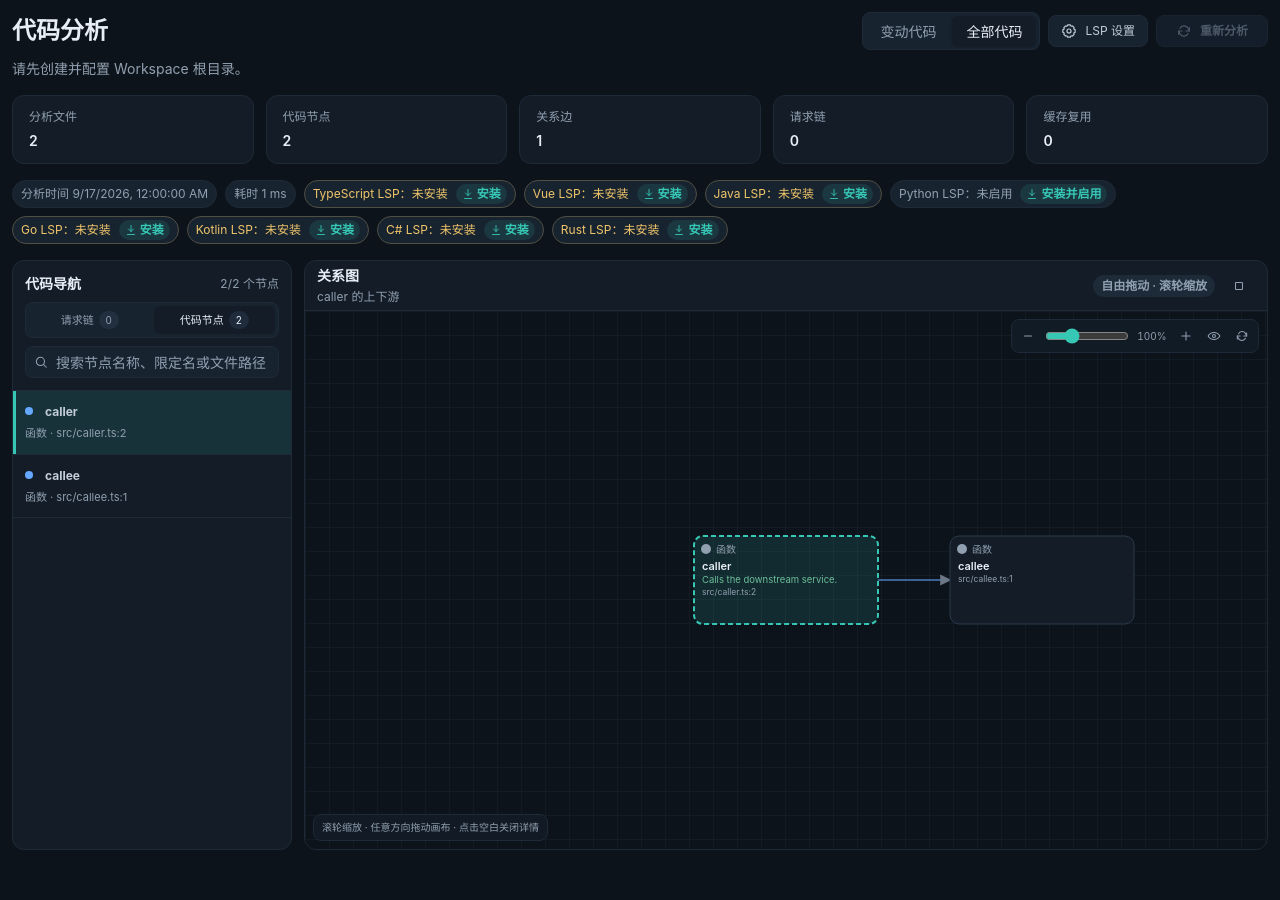
Test case: CodeAnalysisPage relationship graph workspace › offers managed installation for every supported LSP
Click the button with aria-label "安装并启用 Python Language Server": (1064, 194) [1020,184,1108,204]
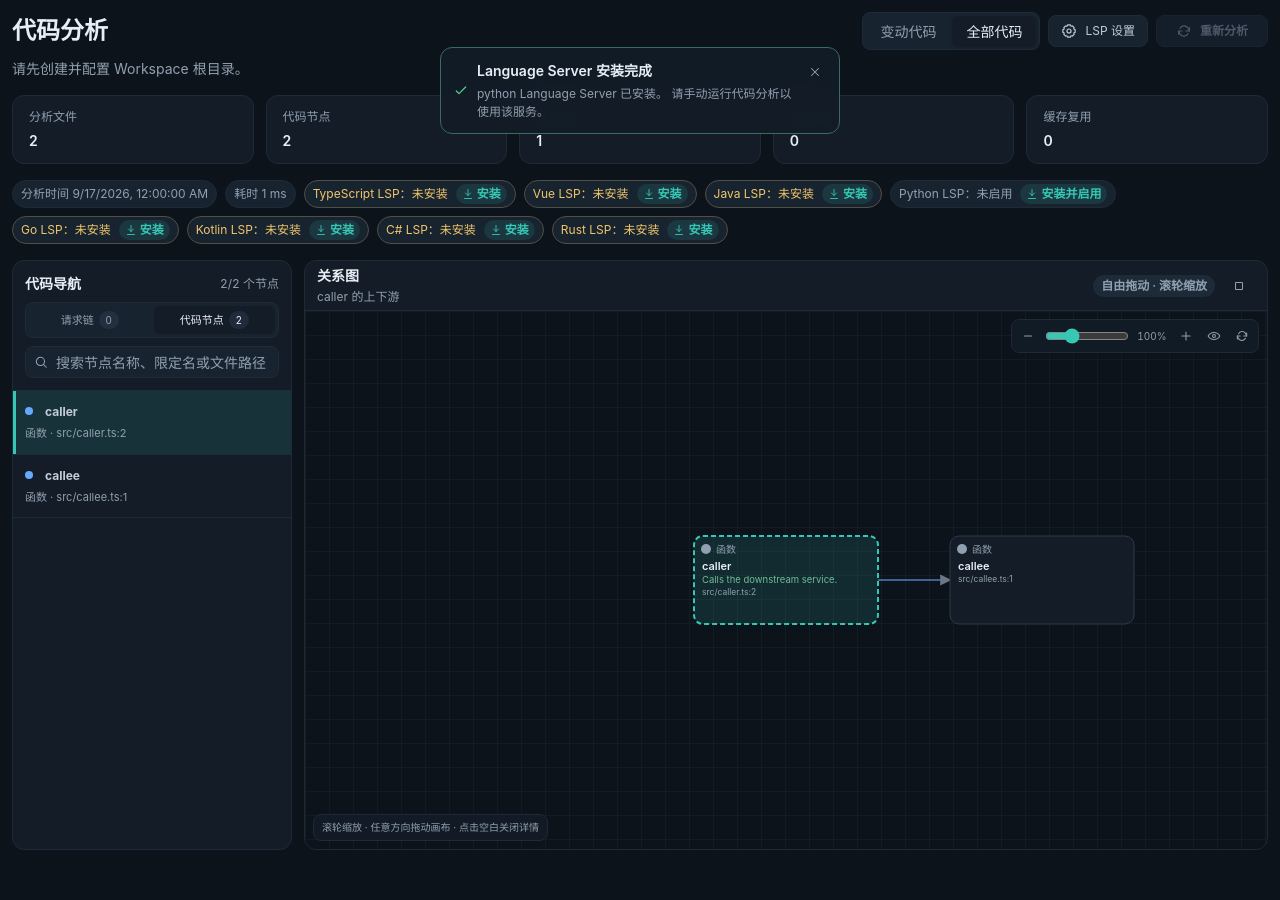
Check: the text "请手动运行代码分析以使用该服务。" is shown, box [477,86,791,119]
